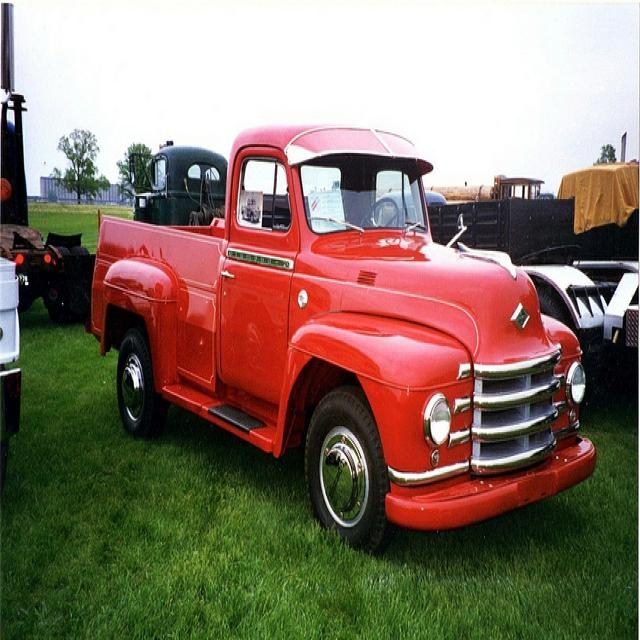Vehicle: (94, 124, 599, 555), (434, 166, 640, 264), (125, 138, 228, 229), (2, 174, 20, 468)
